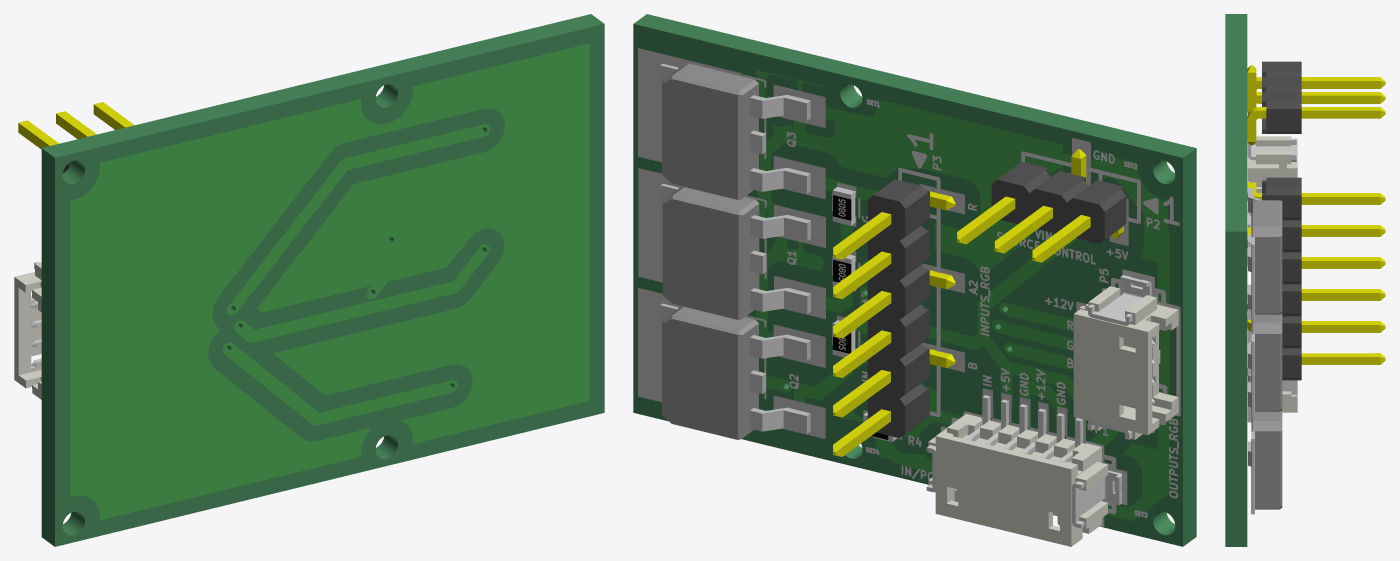
File: blender3.dae
3 views of the same model, side by side, from view 1: azimuth 30°, elevation 25°; view 2: azimuth 150°, elevation 25°; view 3: azimuth 270°, elevation 25° (orthographic). The views are drawn at different scales.
Visible parts, largest first — view 1: Shape_IndexedFaceSet_080, Shape_IndexedFaceSet_077, Shape_IndexedFaceSet_068, Shape_IndexedFaceSet_067; view 2: Shape_IndexedFaceSet_077, Shape_IndexedFaceSet_078, Shape_IndexedFaceSet_079, Shape_IndexedFaceSet_042, Shape_IndexedFaceSet_032, Shape_IndexedFaceSet_037, Shape_IndexedFaceSet_083, Shape_IndexedFaceSet_015, Shape_IndexedFaceSet_014, Shape_IndexedFaceSet_068, Shape_IndexedFaceSet_067, Shape_IndexedFaceSet_022 (+25 smaller); view 3: Shape_IndexedFaceSet_077, Shape_IndexedFaceSet_042, Shape_IndexedFaceSet_037, Shape_IndexedFaceSet_032, Shape_IndexedFaceSet_068, Shape_IndexedFaceSet_001, Shape_IndexedFaceSet, Shape_IndexedFaceSet_002, Shape_IndexedFaceSet_022, Shape_IndexedFaceSet_004, Shape_IndexedFaceSet_021, Shape_IndexedFaceSet_029 (+17 smaller).
Part boxes in pixels (bbox=[...]): Shape_IndexedFaceSet_080: bbox=[70, 43, 589, 520]; Shape_IndexedFaceSet_077: bbox=[41, 14, 604, 546]; Shape_IndexedFaceSet_068: bbox=[14, 262, 41, 331]; Shape_IndexedFaceSet_067: bbox=[14, 328, 41, 399]; Shape_IndexedFaceSet_077: bbox=[633, 14, 1196, 546]; Shape_IndexedFaceSet_078: bbox=[755, 69, 1169, 520]; Shape_IndexedFaceSet_079: bbox=[638, 48, 1154, 505]; Shape_IndexedFaceSet_042: bbox=[662, 63, 758, 200]; Shape_IndexedFaceSet_032: bbox=[662, 187, 759, 320]; Shape_IndexedFaceSet_037: bbox=[662, 306, 758, 440]; Shape_IndexedFaceSet_083: bbox=[742, 74, 1180, 526]; Shape_IndexedFaceSet_015: bbox=[1003, 434, 1107, 546]; Shape_IndexedFaceSet_014: bbox=[928, 414, 1022, 530]; Shape_IndexedFaceSet_068: bbox=[1073, 286, 1178, 383]; Shape_IndexedFaceSet_067: bbox=[1073, 365, 1178, 439]; Shape_IndexedFaceSet_022: bbox=[867, 179, 929, 240]; Shape_IndexedFaceSet_077: bbox=[1225, 14, 1247, 546]; Shape_IndexedFaceSet_042: bbox=[1251, 200, 1282, 314]; Shape_IndexedFaceSet_037: bbox=[1251, 410, 1282, 509]; Shape_IndexedFaceSet_032: bbox=[1251, 313, 1282, 411]; Shape_IndexedFaceSet_068: bbox=[1247, 136, 1297, 193]; Shape_IndexedFaceSet_001: bbox=[1262, 91, 1301, 133]; Shape_IndexedFaceSet: bbox=[1247, 107, 1385, 145]; Shape_IndexedFaceSet_002: bbox=[1247, 65, 1385, 103]; Shape_IndexedFaceSet_022: bbox=[1262, 177, 1301, 220]; Shape_IndexedFaceSet_004: bbox=[1247, 77, 1385, 112]; Shape_IndexedFaceSet_021: bbox=[1247, 182, 1385, 204]; Shape_IndexedFaceSet_029: bbox=[1247, 312, 1385, 332].
Size of what is drawn, in the model's own units: 37.03 by 11.56 by 25.04.
